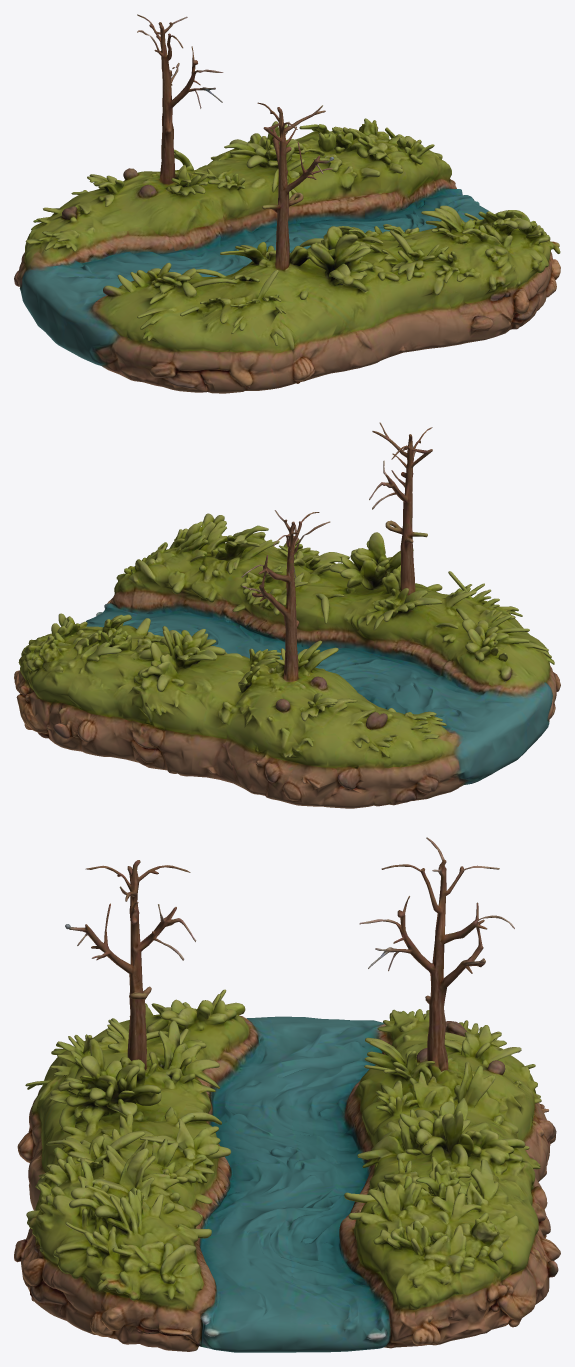
3 renders of one model, top to bottom at view 1: azimuth 30°, elevation 25°; view 2: azimuth 150°, elevation 25°; view 3: azimuth 270°, elevation 25°, orthographic. The views are drawn at different scales.
Parts seen in each view (by area): view 1: tripo_node_733bc36d-3915-41b6-9ff7-af4d30dc760e; view 2: tripo_node_733bc36d-3915-41b6-9ff7-af4d30dc760e; view 3: tripo_node_733bc36d-3915-41b6-9ff7-af4d30dc760e.
Part boxes in pixels (bbox=[...]): tripo_node_733bc36d-3915-41b6-9ff7-af4d30dc760e: bbox=[14, 14, 560, 393]; tripo_node_733bc36d-3915-41b6-9ff7-af4d30dc760e: bbox=[14, 422, 560, 808]; tripo_node_733bc36d-3915-41b6-9ff7-af4d30dc760e: bbox=[14, 837, 560, 1352].
Size of the model in its own units: 0.9999 by 0.5305 by 0.8056.
Materials: 1 (1 with a texture image).
